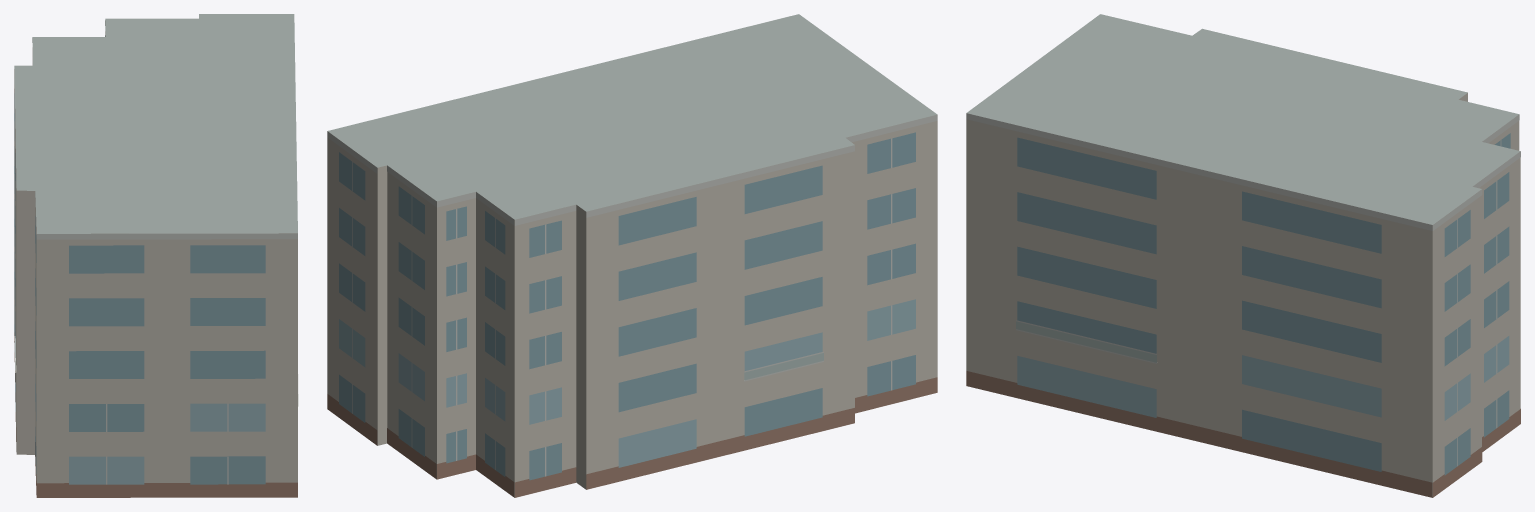
File: survey-upis-32704813.glb
The picture shows the model from 3 angles, left to right: view 1: azimuth 30°, elevation 25°; view 2: azimuth 150°, elevation 25°; view 3: azimuth 270°, elevation 25°; orthographic projection. The views are drawn at different scales.
Visible parts, largest first — view 1: survey-upis-32704813.tmp; view 2: survey-upis-32704813.tmp; view 3: survey-upis-32704813.tmp.
Part boxes in pixels (bbox=[...]): survey-upis-32704813.tmp: bbox=[14, 14, 298, 497]; survey-upis-32704813.tmp: bbox=[327, 14, 937, 497]; survey-upis-32704813.tmp: bbox=[966, 14, 1520, 497].
Size of the model in its own units: 18.09 by 10.9 by 20.08.
